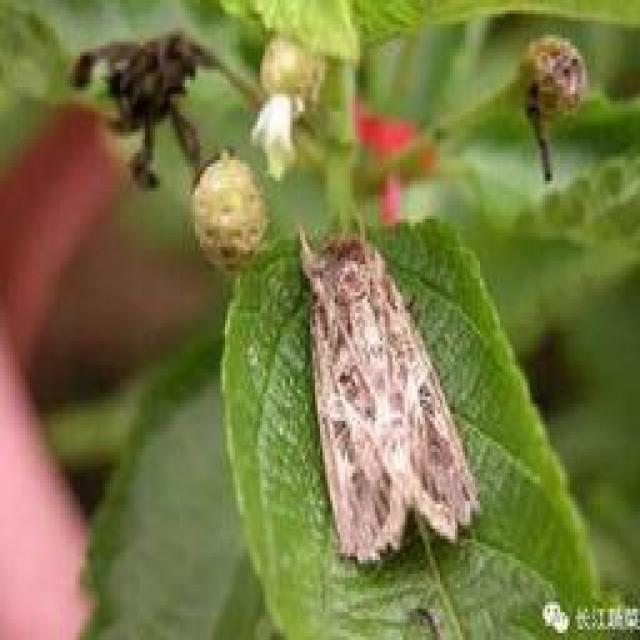BeetArmyWorm-Adult-: (295, 204, 489, 580)
